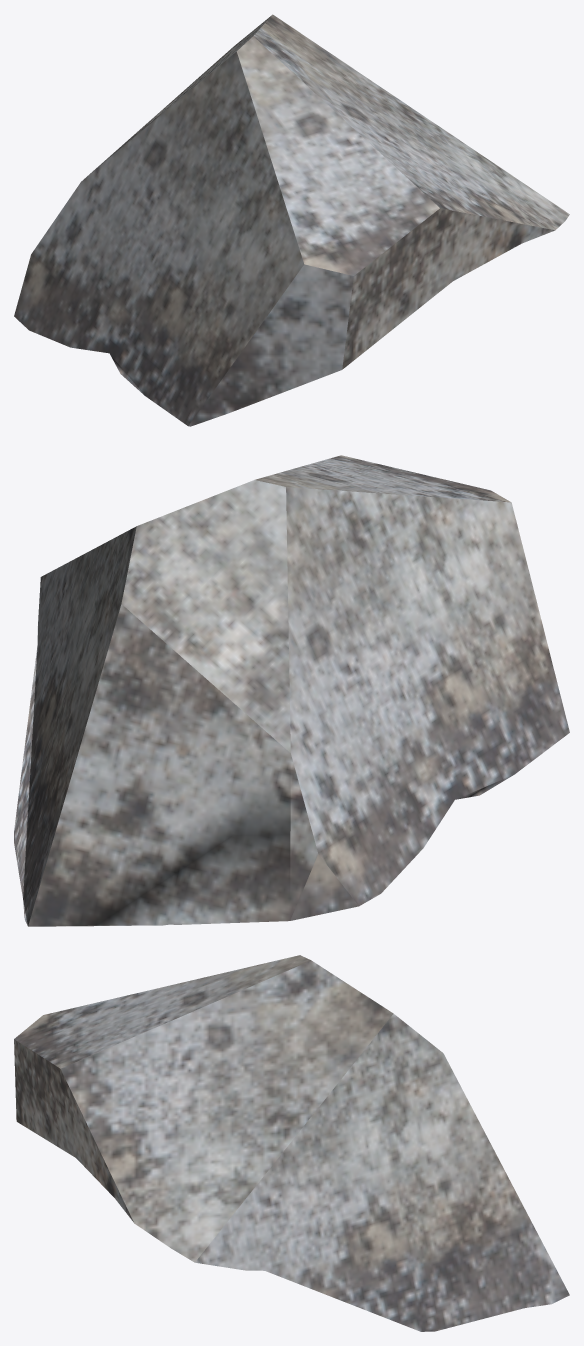
File: Asteroid_Large_001_02_008_03_022.fbx
3 views of the same model, one above another, from view 1: azimuth 30°, elevation 25°; view 2: azimuth 150°, elevation 25°; view 3: azimuth 270°, elevation 25° (orthographic). The views are drawn at different scales.
Parts seen in each view (by area): view 1: Asteroid_Large_001_02_008_03_022; view 2: Asteroid_Large_001_02_008_03_022; view 3: Asteroid_Large_001_02_008_03_022.
Part boxes in pixels (bbox=[...]): Asteroid_Large_001_02_008_03_022: bbox=[14, 14, 569, 426]; Asteroid_Large_001_02_008_03_022: bbox=[14, 455, 569, 926]; Asteroid_Large_001_02_008_03_022: bbox=[14, 955, 569, 1331].
Size of the model in its own units: 6.82 by 4.94 by 8.08.
